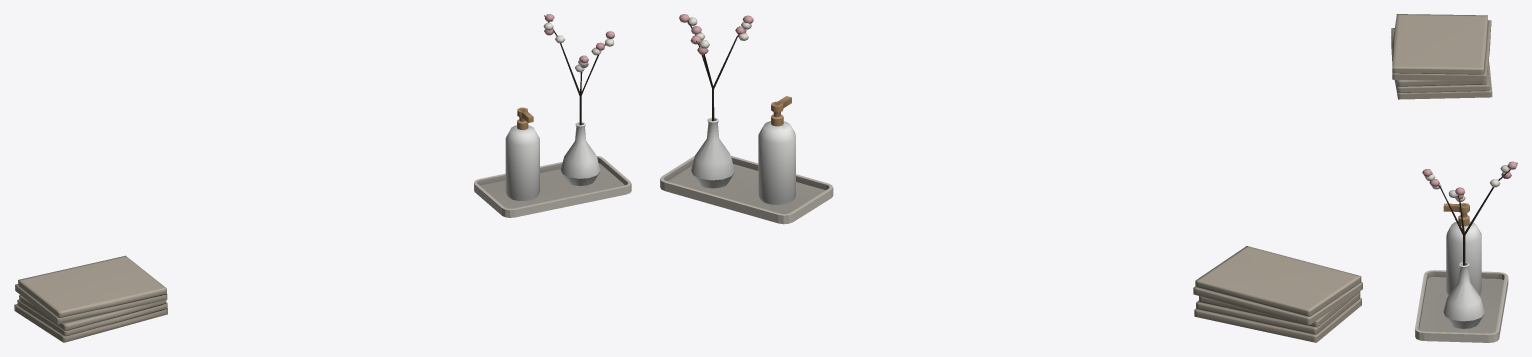
File: decor_a_soft_vanity.gltf
3 renders of one model, left to right at view 1: azimuth 30°, elevation 25°; view 2: azimuth 150°, elevation 25°; view 3: azimuth 270°, elevation 25°, orthographic. The views are drawn at different scales.
Parts seen in each view (by area): view 1: DecorASoftVanity_oat_NoCollide, DecorASoftVanity_stoneware_NoCollide, DecorASoftVanity_porcelain_NoCollide; view 2: DecorASoftVanity_oat_NoCollide, DecorASoftVanity_stoneware_NoCollide, DecorASoftVanity_porcelain_NoCollide; view 3: DecorASoftVanity_oat_NoCollide, DecorASoftVanity_stoneware_NoCollide, DecorASoftVanity_porcelain_NoCollide, DecorASoftVanity_twig_NoCollide, DecorASoftVanity_blossomblush_NoCollide, DecorASoftVanity_bronzepolished_NoCollide, DecorASoftVanity_blossom_NoCollide.
Part boxes in pixels (x1,y1,x2,y2): DecorASoftVanity_oat_NoCollide: (14,255,167,342); DecorASoftVanity_stoneware_NoCollide: (474,155,631,217); DecorASoftVanity_porcelain_NoCollide: (505,122,600,200); DecorASoftVanity_oat_NoCollide: (1193,246,1362,342); DecorASoftVanity_stoneware_NoCollide: (660,155,833,224); DecorASoftVanity_porcelain_NoCollide: (691,117,795,204); DecorASoftVanity_oat_NoCollide: (1391,14,1492,99); DecorASoftVanity_stoneware_NoCollide: (1415,270,1508,342); DecorASoftVanity_porcelain_NoCollide: (1443,221,1484,328); DecorASoftVanity_twig_NoCollide: (1438,162,1517,265); DecorASoftVanity_blossomblush_NoCollide: (1422,161,1517,199); DecorASoftVanity_bronzepolished_NoCollide: (1443,203,1469,226); DecorASoftVanity_blossom_NoCollide: (1425,165,1509,201).
Bounding box in the file's own units: 1.43 × 0.354 × 0.2548.
